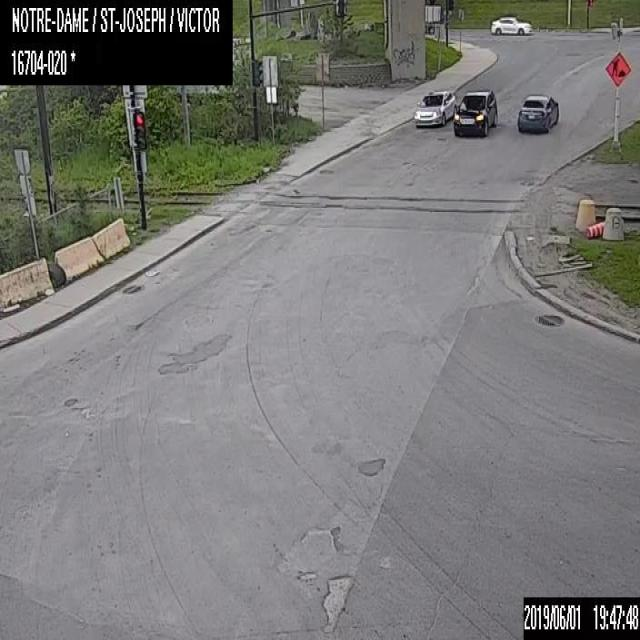construction: (604, 49, 631, 86), (586, 221, 604, 236)
vehicle: (453, 90, 498, 136), (516, 93, 558, 133), (414, 89, 456, 125), (491, 16, 532, 34)
